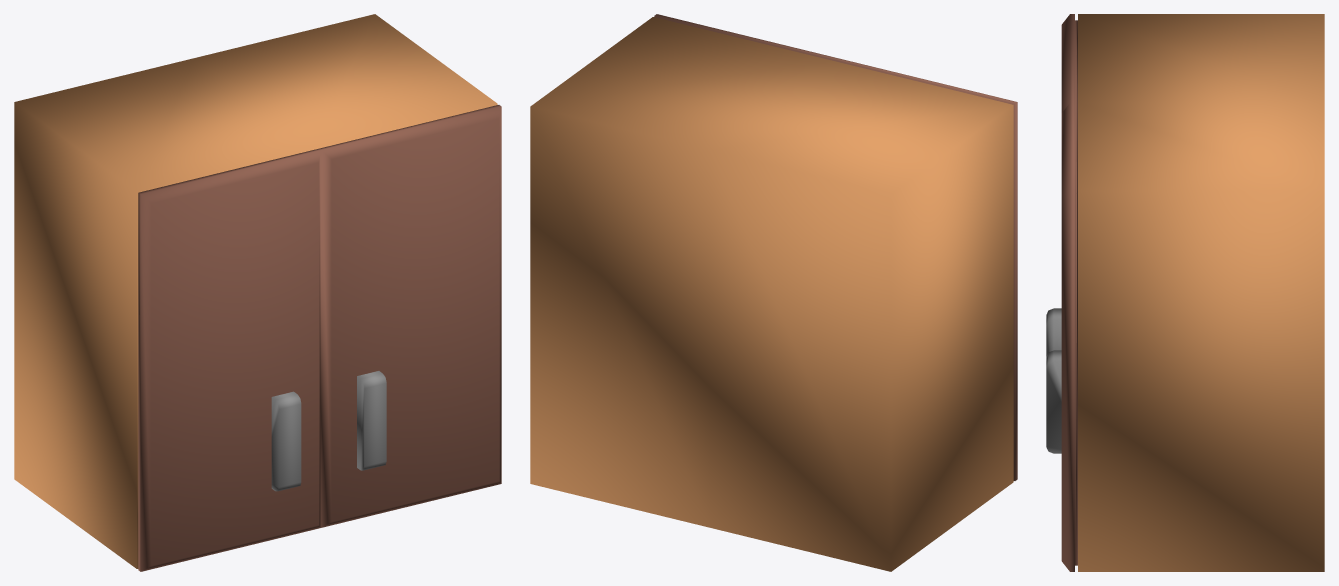
Rendered from MDL_Cupboard.fbx.
3 views of the same model, side by side, from view 1: azimuth 30°, elevation 25°; view 2: azimuth 150°, elevation 25°; view 3: azimuth 270°, elevation 25° (orthographic).
Visible parts, largest first — view 1: mesh_cupboard; view 2: mesh_cupboard; view 3: mesh_cupboard.
Boxes of the visible parts, left/top/right/bottom form: mesh_cupboard: left=14, top=14, right=501, bottom=571; mesh_cupboard: left=530, top=14, right=1017, bottom=571; mesh_cupboard: left=1046, top=14, right=1324, bottom=571.
Bounding box in the file's own units: 100 × 100 × 66.36.
Materials: 1 (1 with a texture image).
